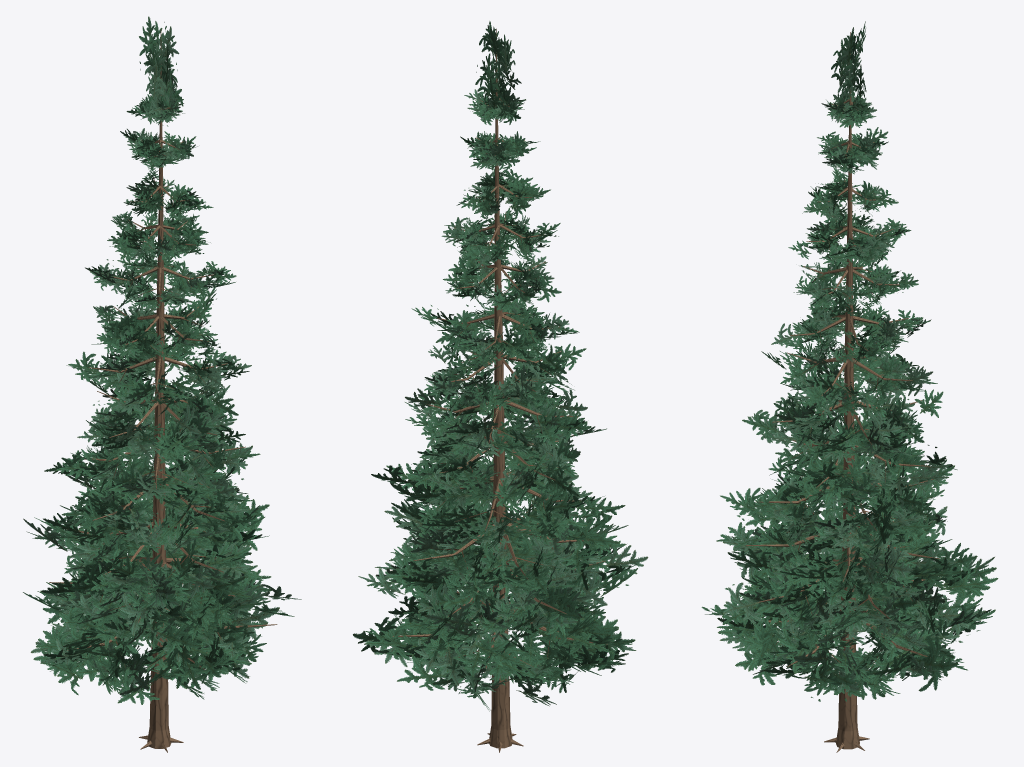
File: conifer_mature_atlas_8000.glb
3 renders of one model, left to right at view 1: azimuth 30°, elevation 25°; view 2: azimuth 150°, elevation 25°; view 3: azimuth 270°, elevation 25°, orthographic.
Parts seen in each view (by area): view 1: Conifer_mature_atlas_8000; view 2: Conifer_mature_atlas_8000; view 3: Conifer_mature_atlas_8000.
Part boxes in pixels (x1=…): Conifer_mature_atlas_8000: x1=23, y1=16, x2=301, y2=752; Conifer_mature_atlas_8000: x1=353, y1=21, x2=648, y2=752; Conifer_mature_atlas_8000: x1=701, y1=21, x2=998, y2=752.
Bounding box in the file's own units: 7.26 × 19.71 × 8.05.
4 materials, 4 textured.
